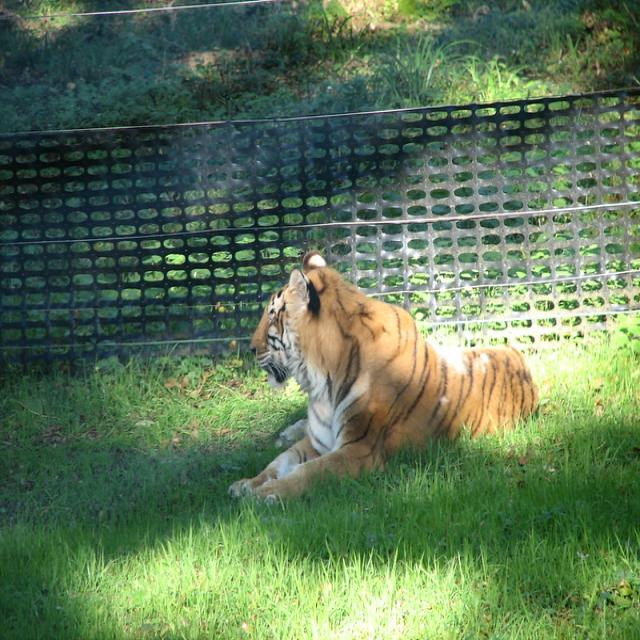Tiger: (220, 247, 614, 511)
